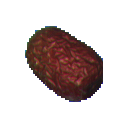gd: (17, 18, 109, 128)
